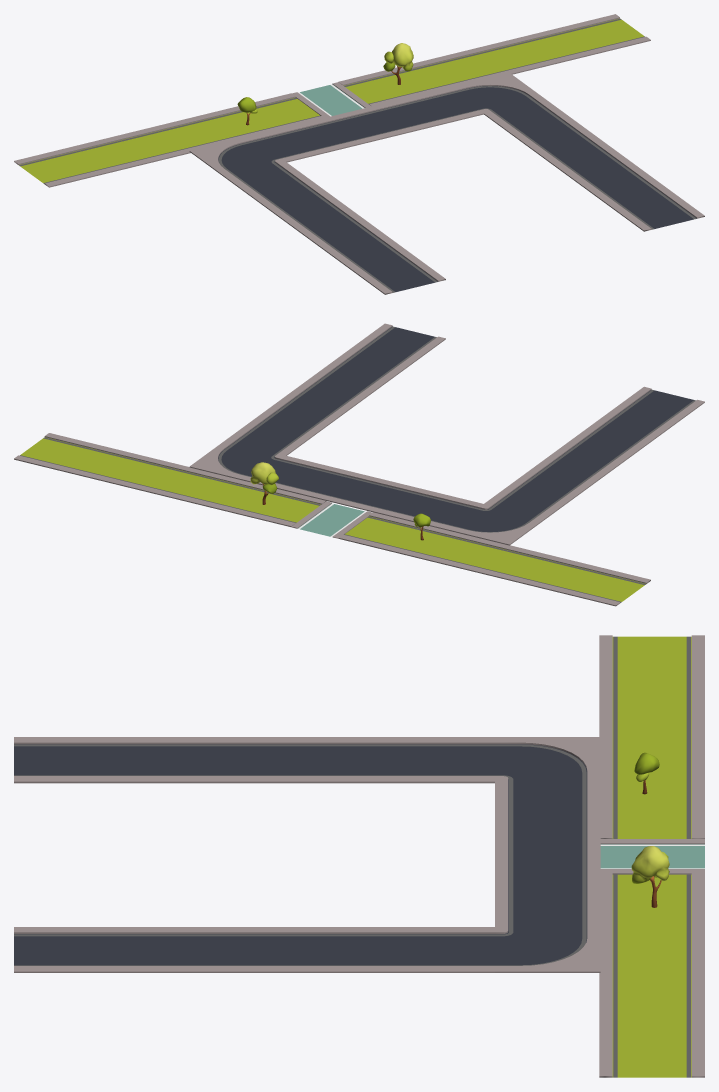
The model's file is Road.fbx.
3 views of the same model, one above another, from view 1: azimuth 30°, elevation 25°; view 2: azimuth 150°, elevation 25°; view 3: azimuth 270°, elevation 25° (orthographic). The views are drawn at different scales.
Visible parts, largest first — view 1: road__02road_straight__1_1group1_02road_straight__2_1_02road (×5), road_group1_02road_curve1_02road_curve__1_1, road_group1_02road_curve1_02road_curve__1_2, tree01__1_1; view 2: road__02road_straight__1_1group1_02road_straight__2_1_02road (×5), road_group1_02road_curve1_02road_curve__1_2, road_group1_02road_curve1_02road_curve__1_1, tree01__1_1; view 3: road__02road_straight__1_1group1_02road_straight__2_1_02road (×5), road_group1_02road_curve1_02road_curve__1_2, road_group1_02road_curve1_02road_curve__1_1, tree01__1_1.
Boxes of the visible parts, left/top/right/bottom form: road__02road_straight__1_1group1_02road_straight__2_1_02road (×5): left=14, top=14, right=704, bottom=294; road_group1_02road_curve1_02road_curve__1_1: left=449, top=73, right=544, bottom=113; road_group1_02road_curve1_02road_curve__1_2: left=189, top=136, right=285, bottom=177; tree01__1_1: left=383, top=43, right=413, bottom=84; road__02road_straight__1_1group1_02road_straight__2_1_02road (×5): left=14, top=323, right=704, bottom=606; road_group1_02road_curve1_02road_curve__1_2: left=448, top=504, right=544, bottom=545; road_group1_02road_curve1_02road_curve__1_1: left=189, top=441, right=285, bottom=482; tree01__1_1: left=250, top=462, right=278, bottom=504; road__02road_straight__1_1group1_02road_straight__2_1_02road (×5): left=14, top=635, right=704, bottom=1077; road_group1_02road_curve1_02road_curve__1_2: left=495, top=737, right=600, bottom=783; road_group1_02road_curve1_02road_curve__1_1: left=495, top=927, right=600, bottom=972; tree01__1_1: left=631, top=846, right=669, bottom=907.
Bounding box in the file's own units: 6257 × 410 × 4143.
